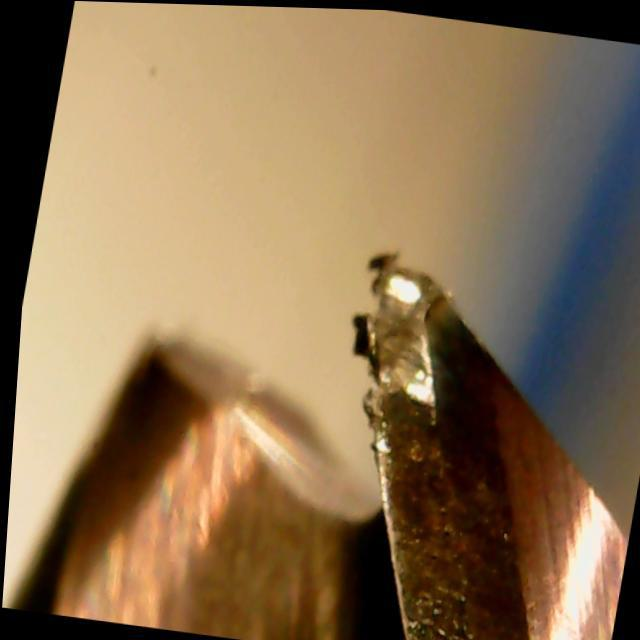Tool-wear-class-3: (288, 227, 547, 580)
